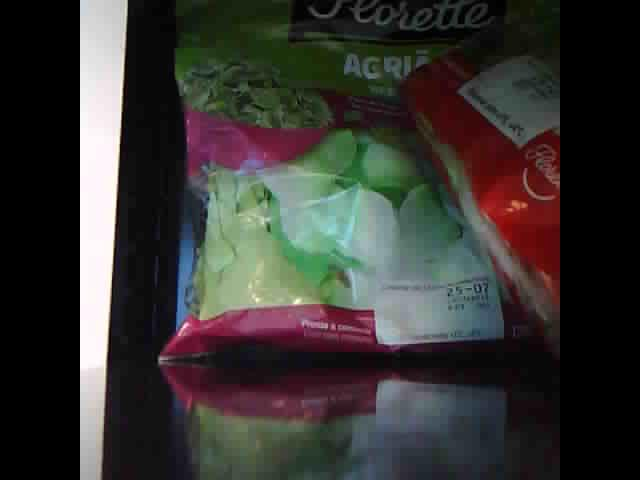florette: (155, 3, 538, 367), (396, 7, 559, 362)
